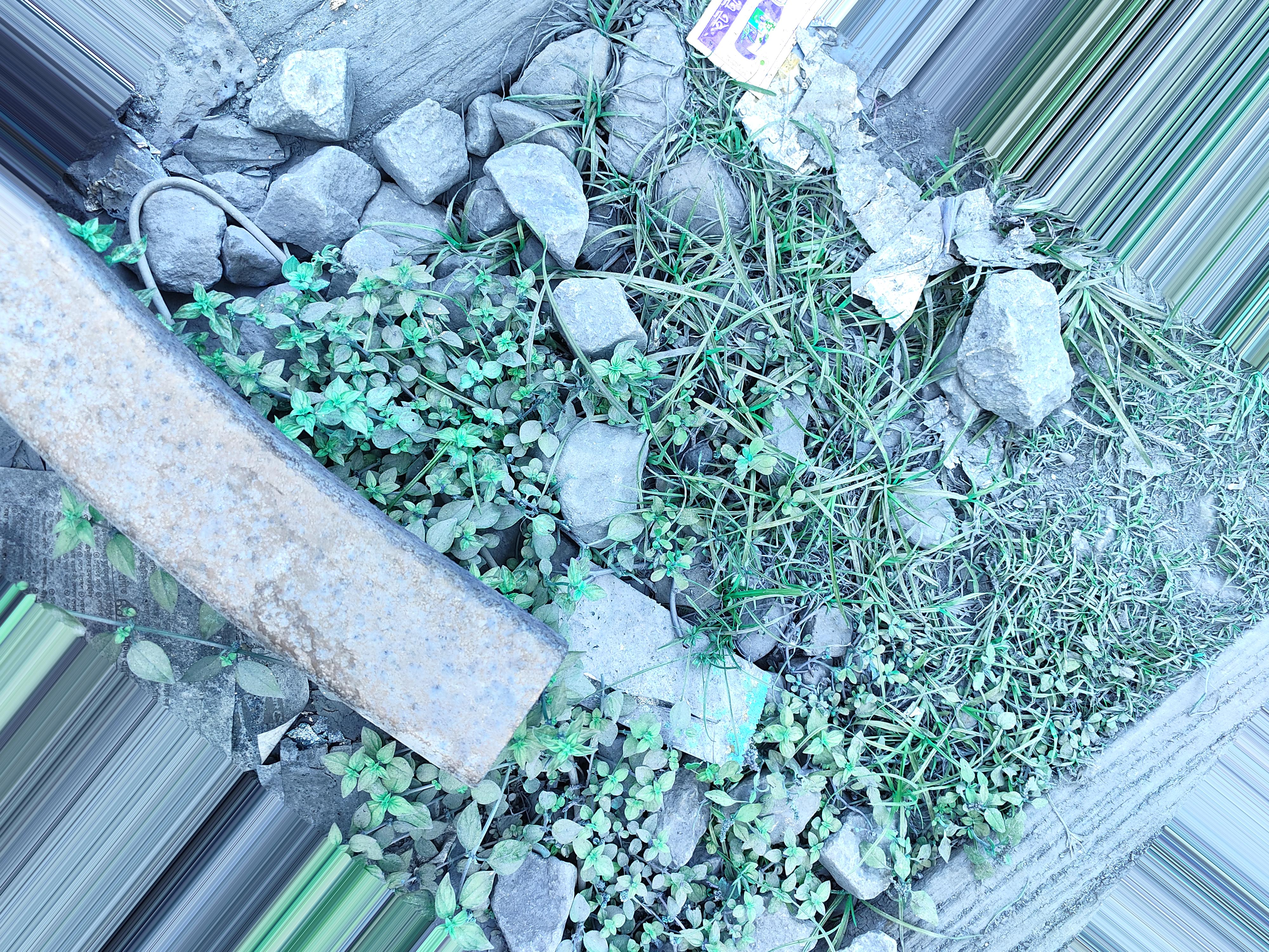tracks_fault: (395, 565, 1053, 861)
